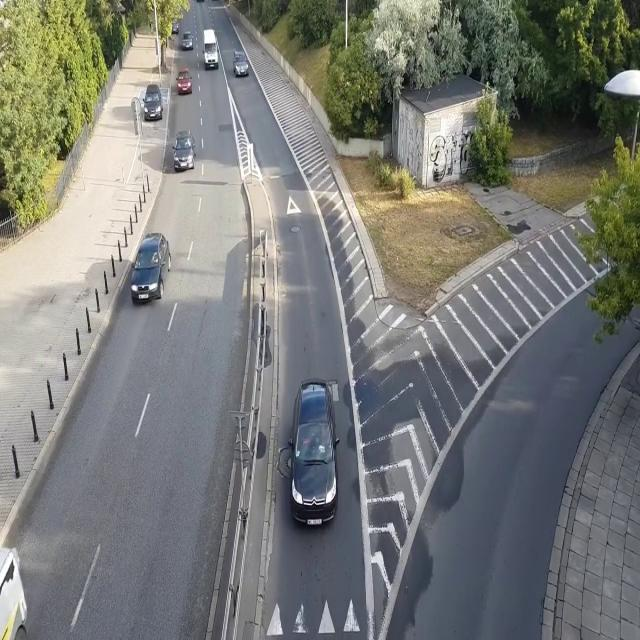car: (289, 377, 340, 528), (129, 231, 172, 304), (172, 128, 196, 174), (142, 85, 164, 122), (232, 49, 250, 78), (175, 67, 192, 95), (181, 30, 194, 51)
van: (202, 28, 219, 70)
